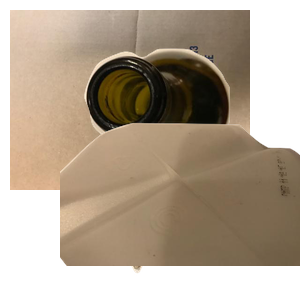cardboard: (10, 10, 250, 190)
glass: (82, 46, 300, 199)
plastic: (60, 120, 300, 300)
trash: (79, 123, 281, 300)
